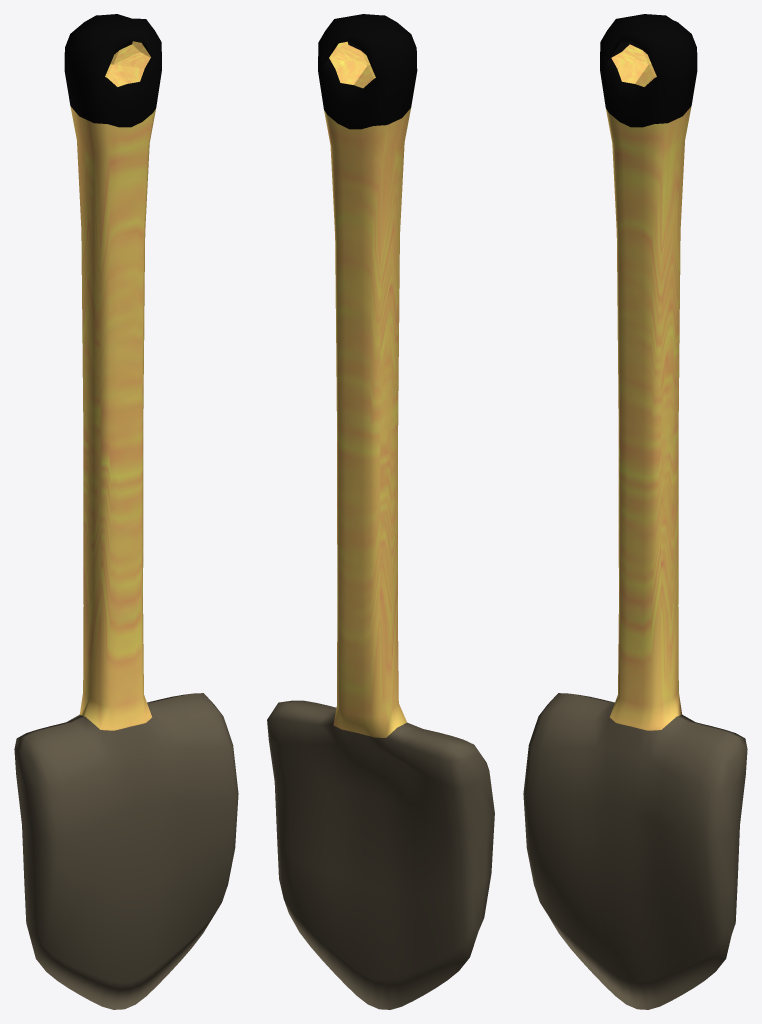
Rendered from Shovel.fbx.
The picture shows the model from 3 angles, left to right: view 1: azimuth 30°, elevation 25°; view 2: azimuth 150°, elevation 25°; view 3: azimuth 330°, elevation 25°; orthographic projection.
Parts seen in each view (by area): view 1: Cube; view 2: Cube; view 3: Cube.
Boxes of the visible parts, box(x1,y1,x2,y2) form: Cube: box(14, 14, 238, 1009); Cube: box(267, 14, 494, 1009); Cube: box(523, 14, 747, 1009).
Size of the model in its own units: 198 by 927 by 88.88.
Materials: 1 (1 with a texture image).
